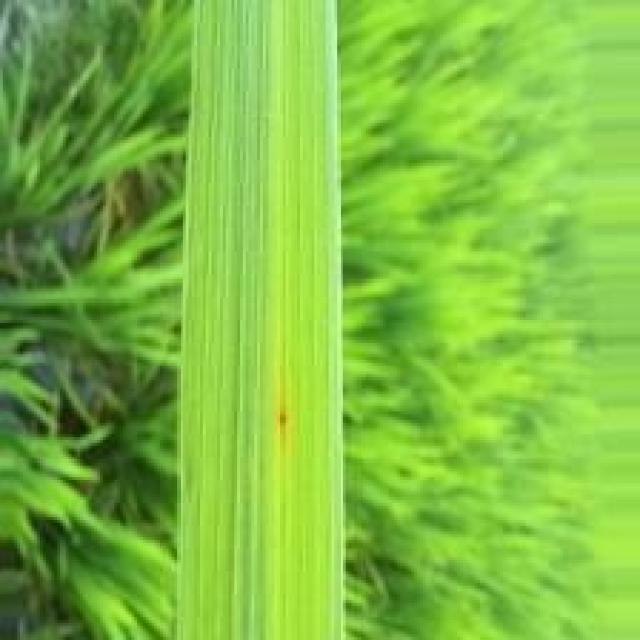Brown_Spot: (278, 408, 288, 428)
